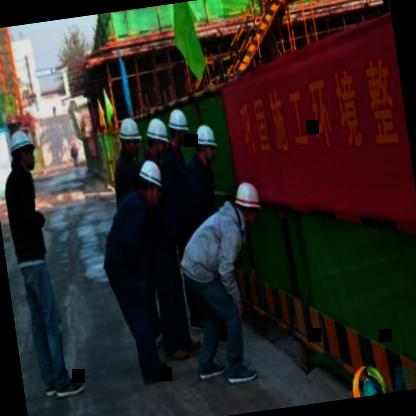helmet: (233, 177, 266, 228), (6, 124, 39, 173), (136, 158, 167, 208), (191, 122, 222, 168), (114, 114, 144, 158), (164, 104, 192, 146), (144, 116, 172, 158)
